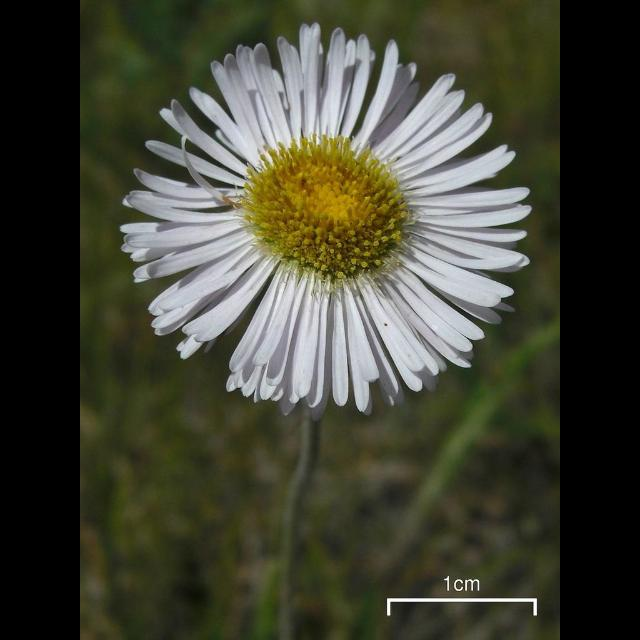Flower: (124, 22, 532, 422)
